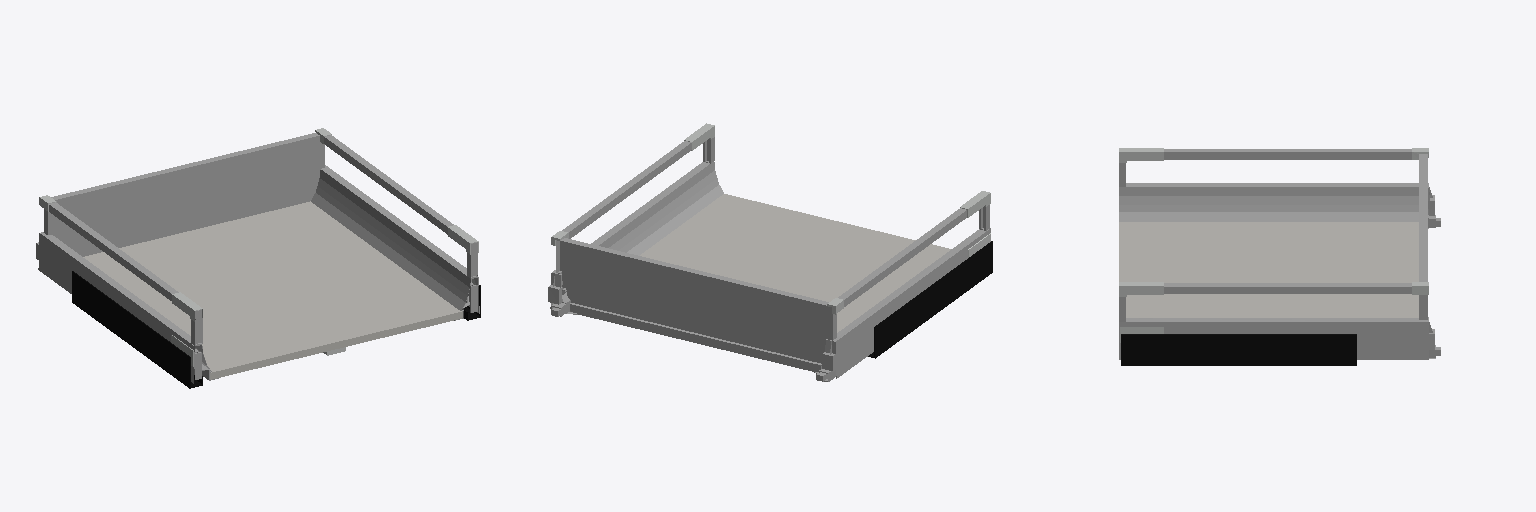
File: IKEA.ART.20221449.obj
3 renders of one model, left to right at view 1: azimuth 30°, elevation 25°; view 2: azimuth 150°, elevation 25°; view 3: azimuth 270°, elevation 25°, orthographic.
Visible parts, largest first — view 1: model_model.007; view 2: model_model.007; view 3: model_model.007.
Boxes of the visible parts, x1=… form: model_model.007: x1=36, y1=128, x2=480, y2=388; model_model.007: x1=548, y1=123, x2=992, y2=381; model_model.007: x1=1119, y1=148, x2=1440, y2=365.
Size of the model in its own units: 0.5644 by 0.1441 by 0.5411.